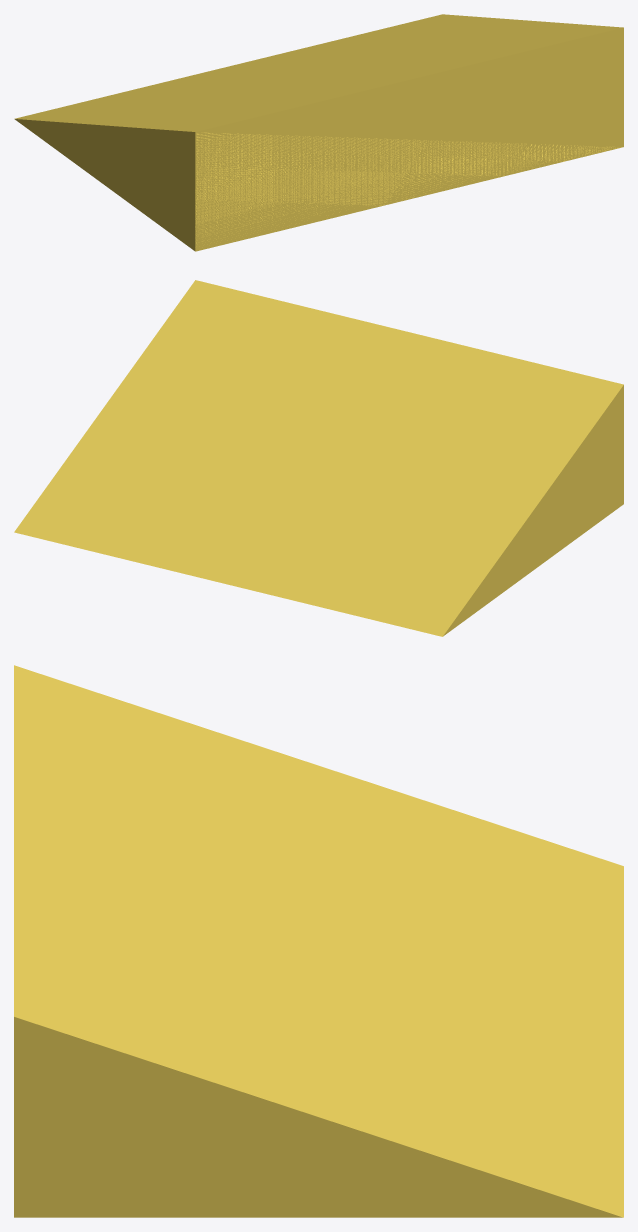
File: kicker.glb
The picture shows the model from 3 angles, top to bottom: view 1: azimuth 30°, elevation 25°; view 2: azimuth 150°, elevation 25°; view 3: azimuth 270°, elevation 25°; orthographic projection. The views are drawn at different scales.
Parts seen in each view (by area): view 1: Kicker; view 2: Kicker; view 3: Kicker.
Boxes of the visible parts, x1,y1,x2,y2 form: Kicker: (14, 14, 623, 251); Kicker: (14, 280, 623, 636); Kicker: (14, 665, 623, 1217).
Size of the model in its own units: 3 by 0.8 by 2.2.
